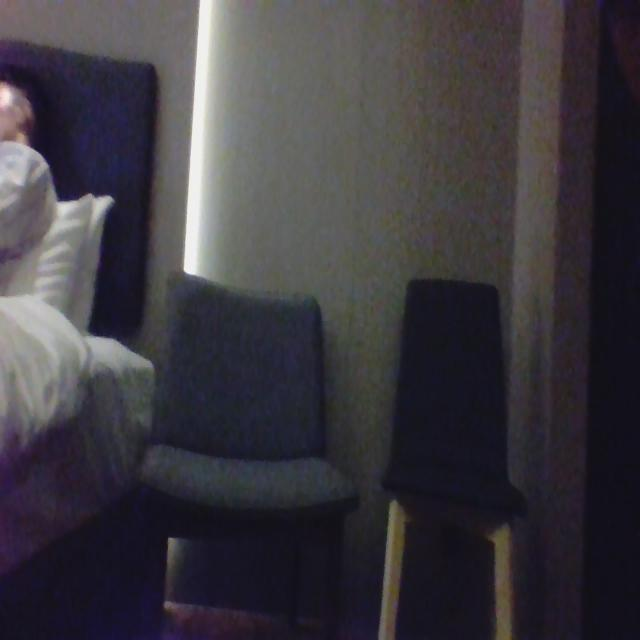empty: (156, 264, 349, 498), (390, 273, 515, 512)
